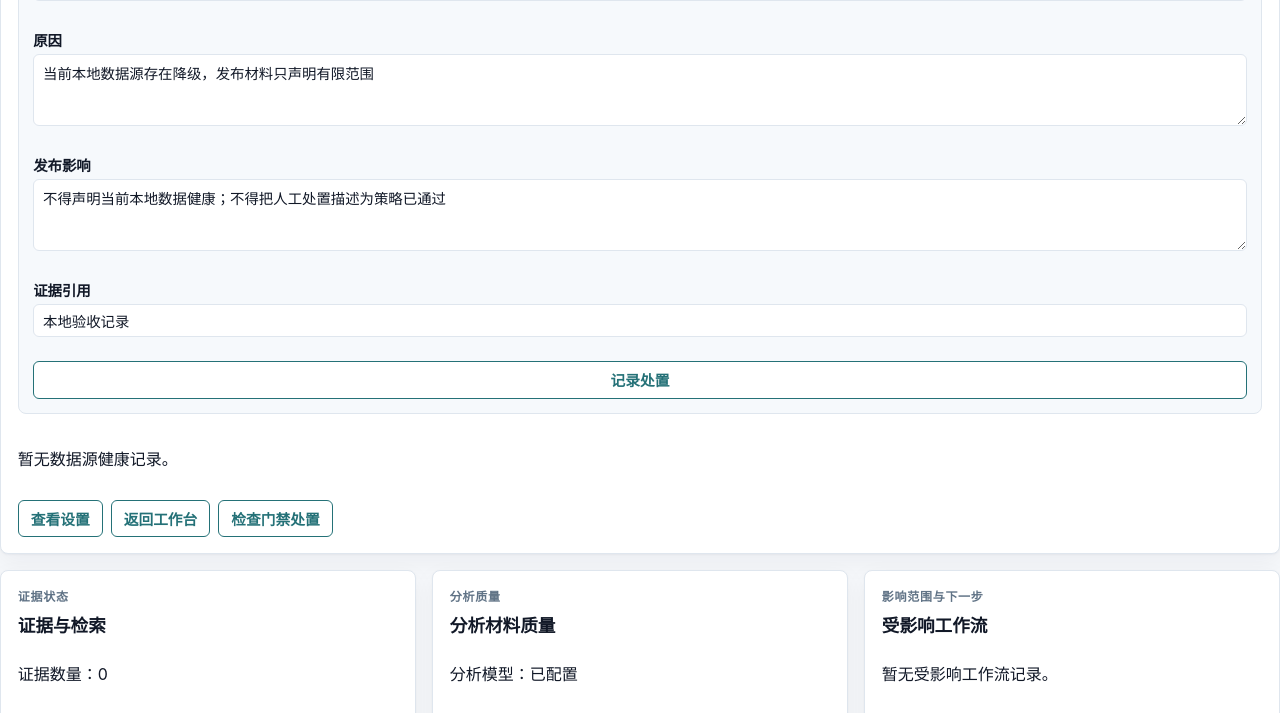
Test: DataQualityPage › records and retires a current data gate scope exclusion from the UI
(page scrolled)
Click the button "记录处置" at point(640, 380), box [33,361,1247,399]
(page scrolled)
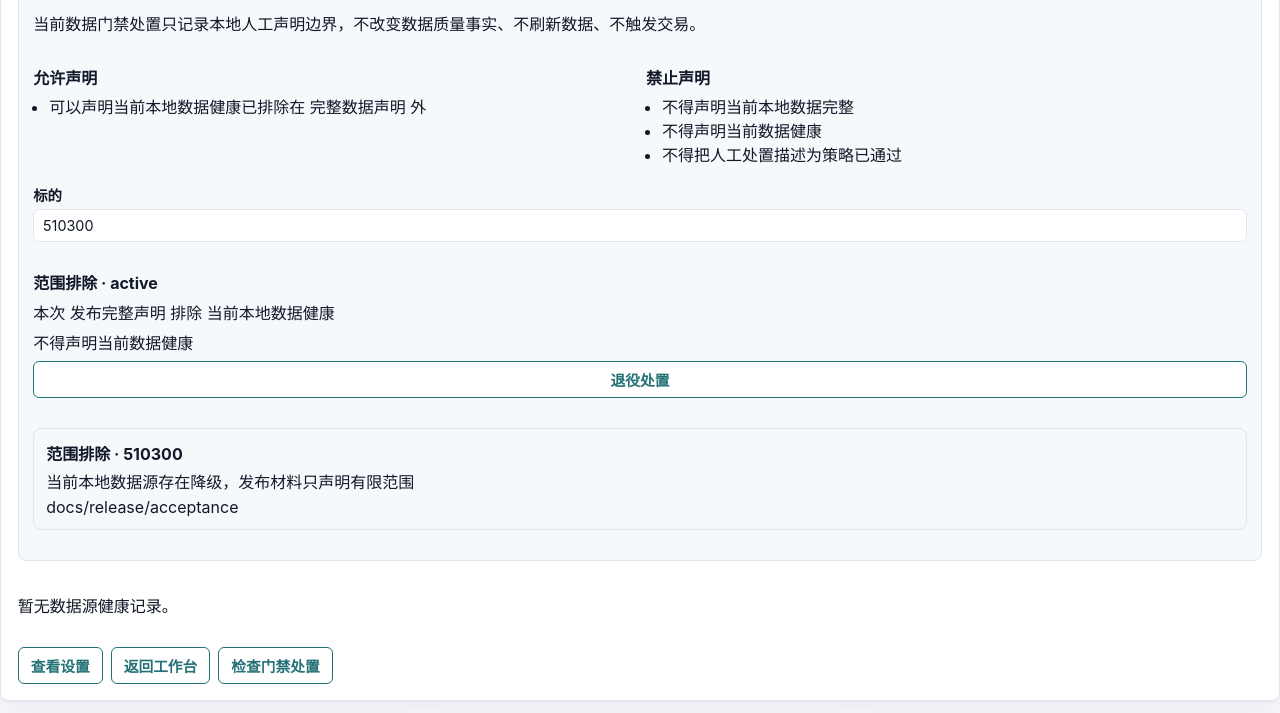
expect the text "范围排除 · active" is shown: met, box [33,273,158,293]
Click the button "退役处置" at point(640, 379), box [33,361,1247,398]
(page scrolled)
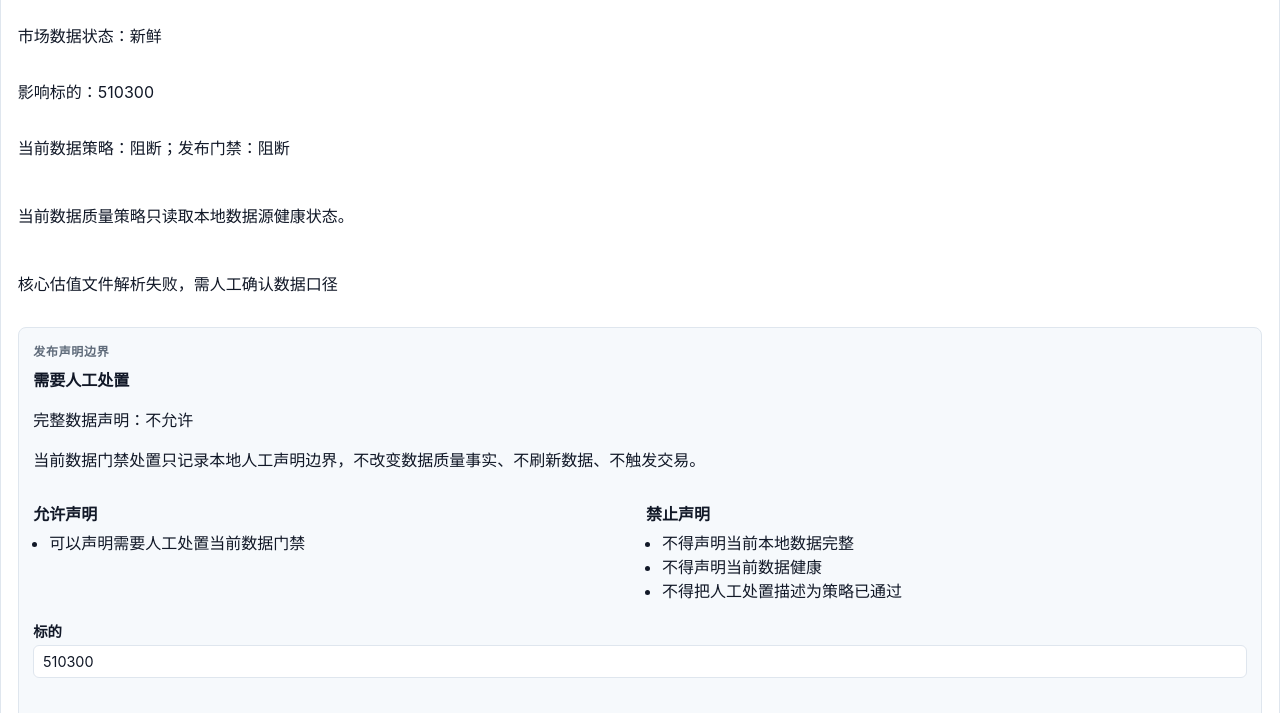
expect the heading "需要人工处置" is shown: met, box [33,370,129,390]
